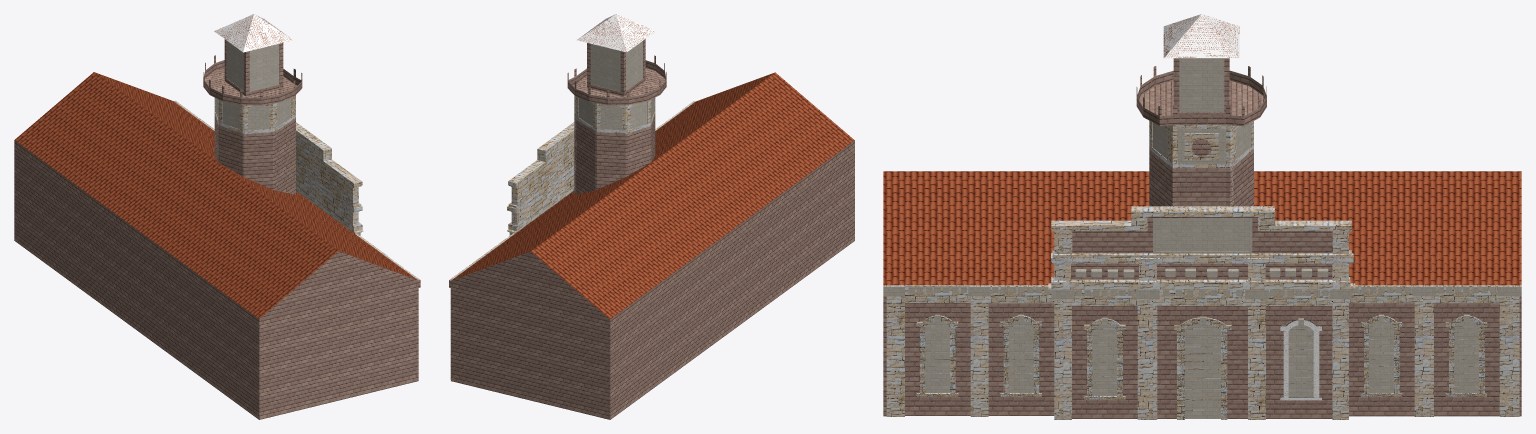
File: Usina.dae
The picture shows the model from 3 angles, left to right: view 1: azimuth 30°, elevation 25°; view 2: azimuth 150°, elevation 25°; view 3: azimuth 270°, elevation 25°; orthographic projection. The views are drawn at different scales.
Visible parts, largest first — view 1: SketchUp (×13); view 2: SketchUp (×13); view 3: SketchUp (×32).
Part boxes in pixels (<box>): SketchUp (×13): <box>14,14,420,419</box>; SketchUp (×13): <box>449,14,854,419</box>; SketchUp (×32): <box>883,14,1521,419</box>.
Bounding box in the file's own units: 5004 × 12581 × 8164.
